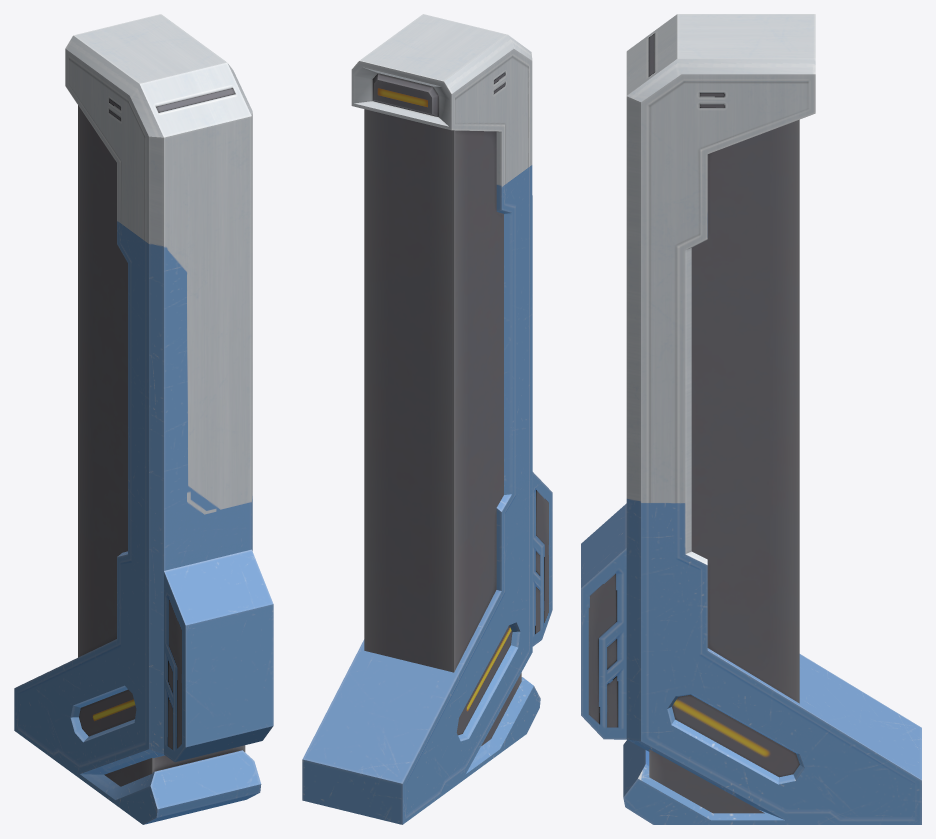
Rendered from mesh_1003_zhucheng_zjz_wujian001_1.FBX.
3 renders of one model, left to right at view 1: azimuth 30°, elevation 25°; view 2: azimuth 150°, elevation 25°; view 3: azimuth 270°, elevation 25°, orthographic. The views are drawn at different scales.
Parts seen in each view (by area): view 1: mesh_1003_zhucheng_zjz_wujian001_1; view 2: mesh_1003_zhucheng_zjz_wujian001_1; view 3: mesh_1003_zhucheng_zjz_wujian001_1.
Part boxes in pixels (box(x1,y1,x2,y2)): mesh_1003_zhucheng_zjz_wujian001_1: box(14, 14, 273, 824); mesh_1003_zhucheng_zjz_wujian001_1: box(302, 14, 552, 824); mesh_1003_zhucheng_zjz_wujian001_1: box(581, 14, 921, 824).
Bounding box in the file's own units: 232 × 1560 × 632.
